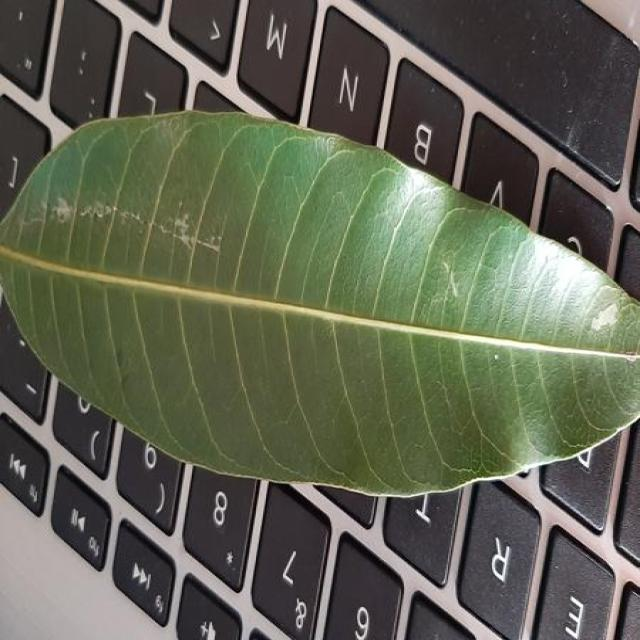mango: (2, 111, 638, 496)
sooty mould: (3, 111, 583, 482)
